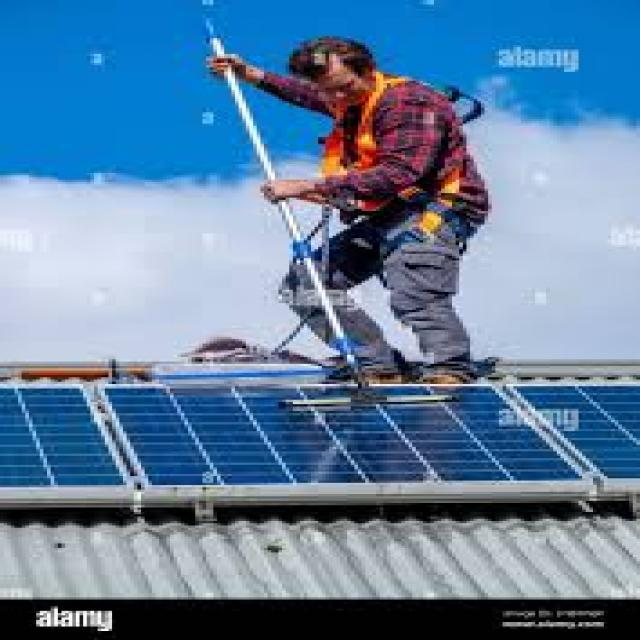belt: (290, 73, 500, 261)
